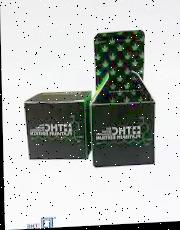cube: (23, 90, 94, 165)
